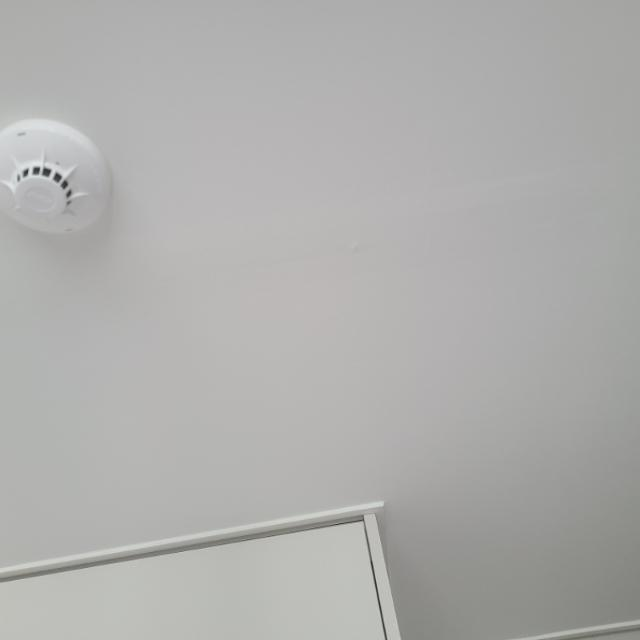Smoke-Detector: (4, 118, 108, 236)
